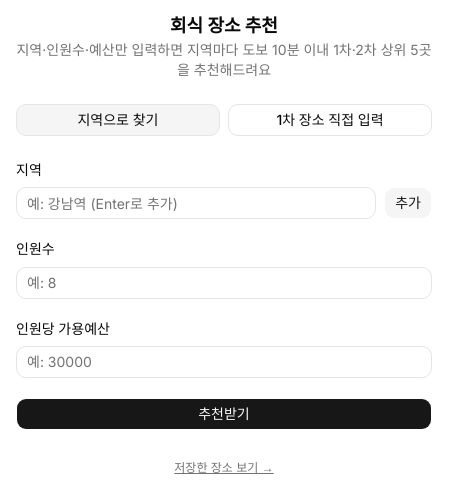
RecommendForm › 1차 장소 직접 입력 탭을 클릭하면 지역 입력 대신 1차 장소명 필드가 보인다
The width and height of the screenshot is (452, 491).
Click the radio button labelled "1차 장소 직접 입력" at [330, 120], box [228, 104, 432, 136]
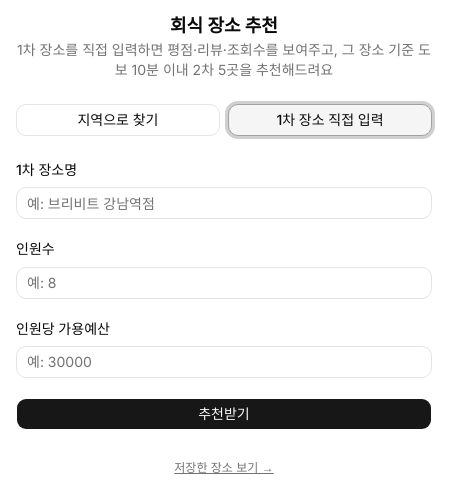
Result: the field labelled "1차 장소명" is shown at [16, 187, 432, 219]
